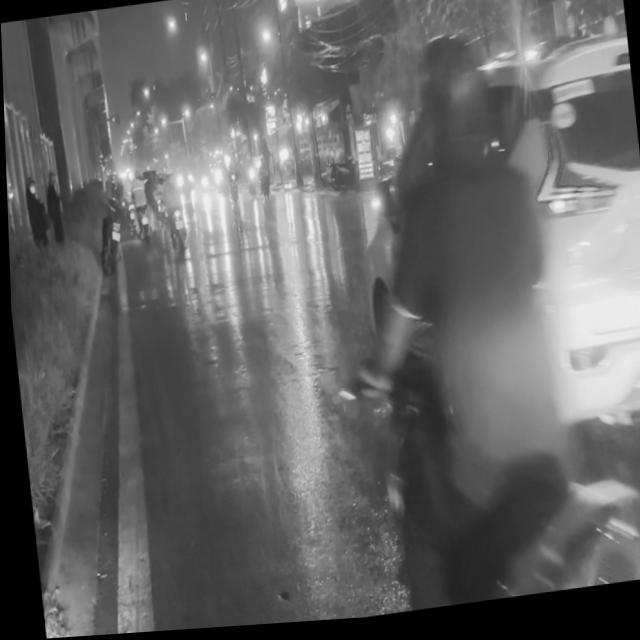helmet: (405, 27, 494, 182)
licenseplate: (311, 0, 640, 622)
